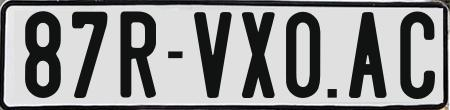0: (286, 9, 326, 99)
7: (72, 11, 109, 103)
8: (25, 10, 63, 98)
A: (349, 10, 389, 99)
C: (398, 8, 431, 98)
R: (117, 9, 159, 96)
V: (194, 9, 233, 97)
X: (242, 12, 278, 98)
